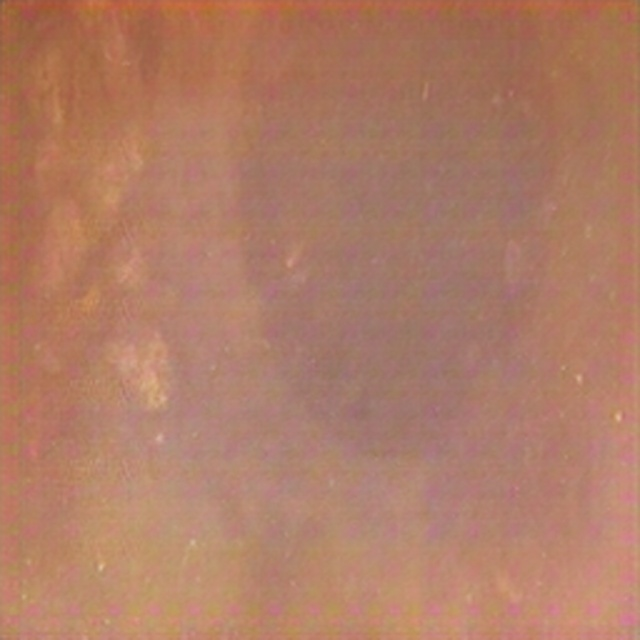mine: (66, 0, 640, 640)
